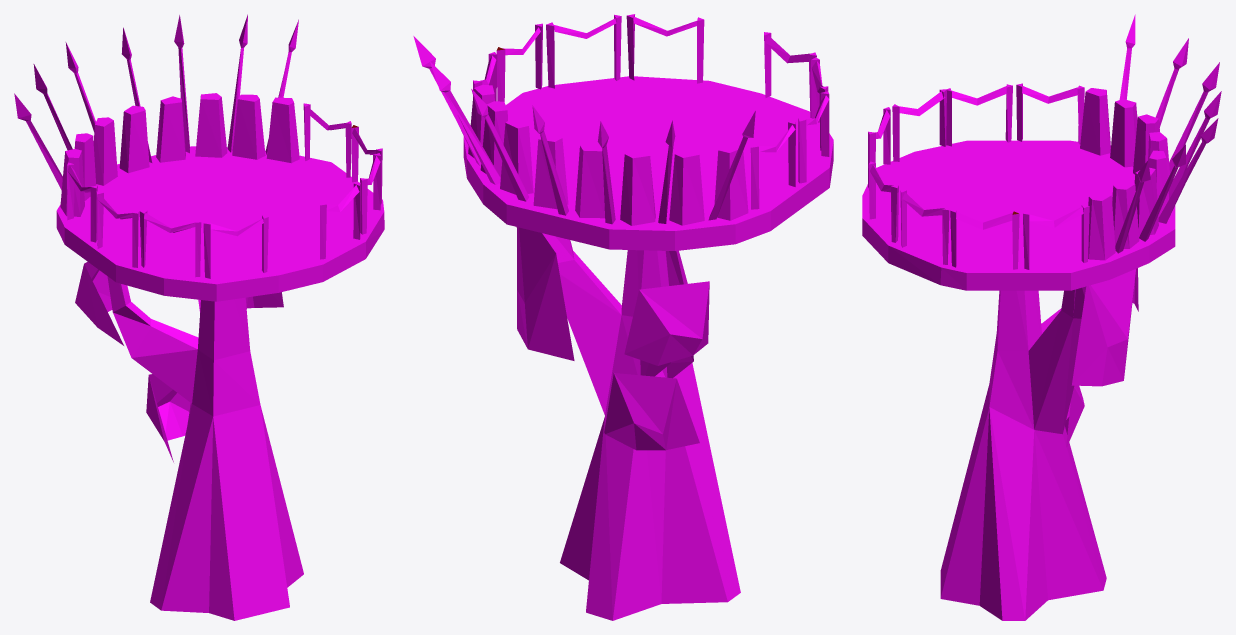
Rendered from gnomewatchtower lev1.obj.
3 views of the same model, side by side, from view 1: azimuth 30°, elevation 25°; view 2: azimuth 150°, elevation 25°; view 3: azimuth 270°, elevation 25° (orthographic). The views are drawn at different scales.
Visible parts, largest first — view 1: gnomewatchtower lev1_back; view 2: gnomewatchtower lev1_back; view 3: gnomewatchtower lev1_back.
Boxes of the visible parts, x1,y1,x2,y2 form: gnomewatchtower lev1_back: (14,14,384,620); gnomewatchtower lev1_back: (413,14,833,620); gnomewatchtower lev1_back: (862,14,1221,620).
Bounding box in the file's own units: 4.19 × 6.71 × 4.41.
